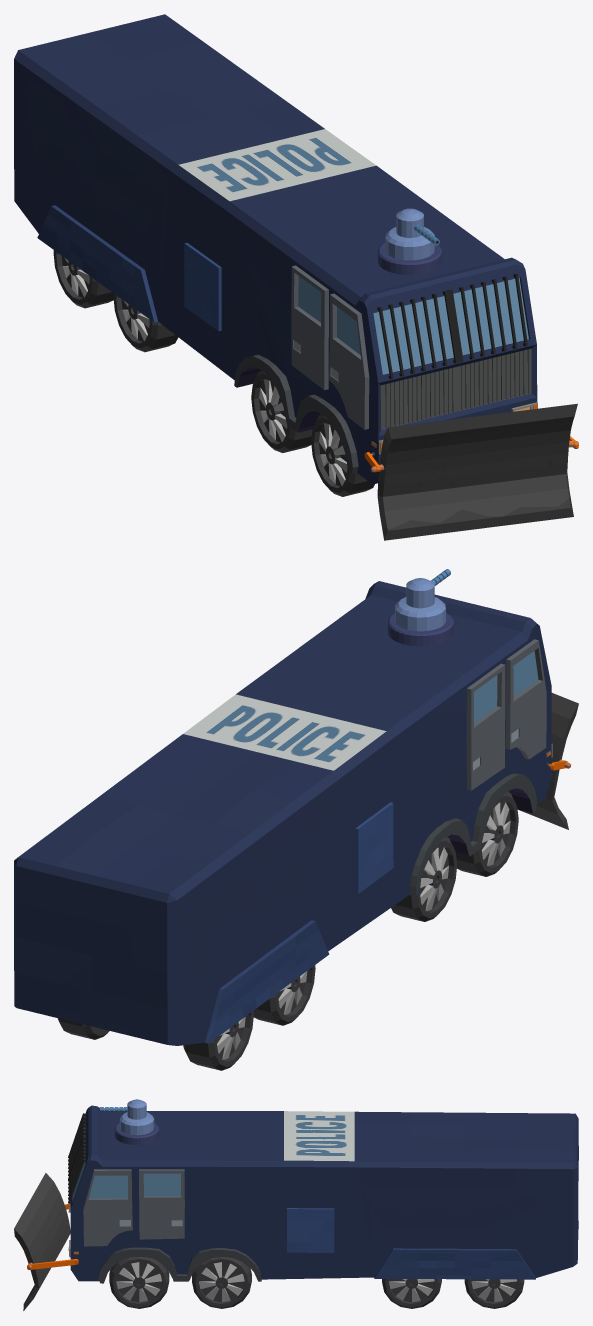
File: CarNewModel.fbx
The picture shows the model from 3 angles, top to bottom: view 1: azimuth 30°, elevation 25°; view 2: azimuth 150°, elevation 25°; view 3: azimuth 270°, elevation 25°; orthographic projection. The views are drawn at different scales.
Visible parts, largest first — view 1: Plane.001, Cube, Cylinder.002, Cylinder.003, Cylinder.006, Cylinder.010, Cylinder.007; view 2: Plane.001, Cylinder.003, Cylinder.002, Cube, Cylinder.010, Cylinder.007, Cylinder.006; view 3: Plane.001, Cube, Cylinder.004, Cylinder.005, Cylinder.009, Cylinder.008, Cylinder.010.
Boxes of the visible parts, left/top/right/bottom form: Plane.001: left=14, top=14, right=537, bottom=484; Cube: left=364, top=403, right=578, bottom=540; Cylinder.002: left=311, top=414, right=374, bottom=496; Cylinder.003: left=251, top=370, right=312, bottom=452; Cylinder.006: left=113, top=293, right=178, bottom=352; Cylinder.010: left=385, top=208, right=434, bottom=260; Cylinder.007: left=53, top=250, right=113, bottom=308; Plane.001: left=14, top=581, right=552, bottom=1045; Cylinder.003: left=391, top=837, right=457, bottom=921; Cylinder.002: left=456, top=792, right=518, bottom=876; Cube: left=519, top=693, right=578, bottom=829; Cylinder.010: left=395, top=578, right=445, bottom=631; Cylinder.007: left=183, top=1011, right=253, bottom=1070; Cylinder.006: left=253, top=965, right=315, bottom=1025; Plane.001: left=68, top=1105, right=578, bottom=1283; Cube: left=14, top=1173, right=78, bottom=1310; Cylinder.004: left=109, top=1257, right=169, bottom=1308; Cylinder.005: left=192, top=1257, right=251, bottom=1308; Cylinder.009: left=464, top=1279, right=524, bottom=1308; Cylinder.008: left=382, top=1279, right=441, bottom=1308; Cylinder.010: left=119, top=1099, right=154, bottom=1135.
Bounding box in the file's own units: 1.27 × 4.92 × 1.77.
